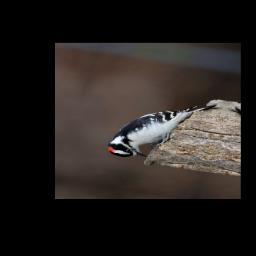Woodpecker: (103, 90, 220, 168)
